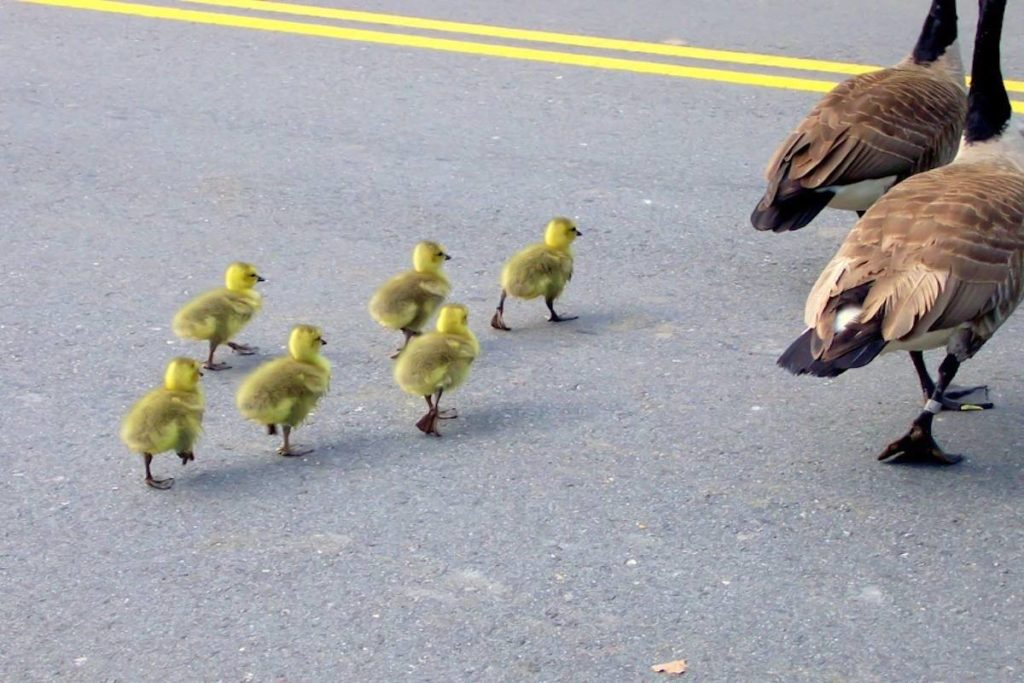duck: (779, 1, 1024, 474), (739, 1, 1024, 298)
duckling: (492, 213, 587, 332), (245, 333, 332, 461), (396, 303, 475, 438), (124, 359, 206, 489), (181, 250, 266, 371), (367, 236, 452, 354)
